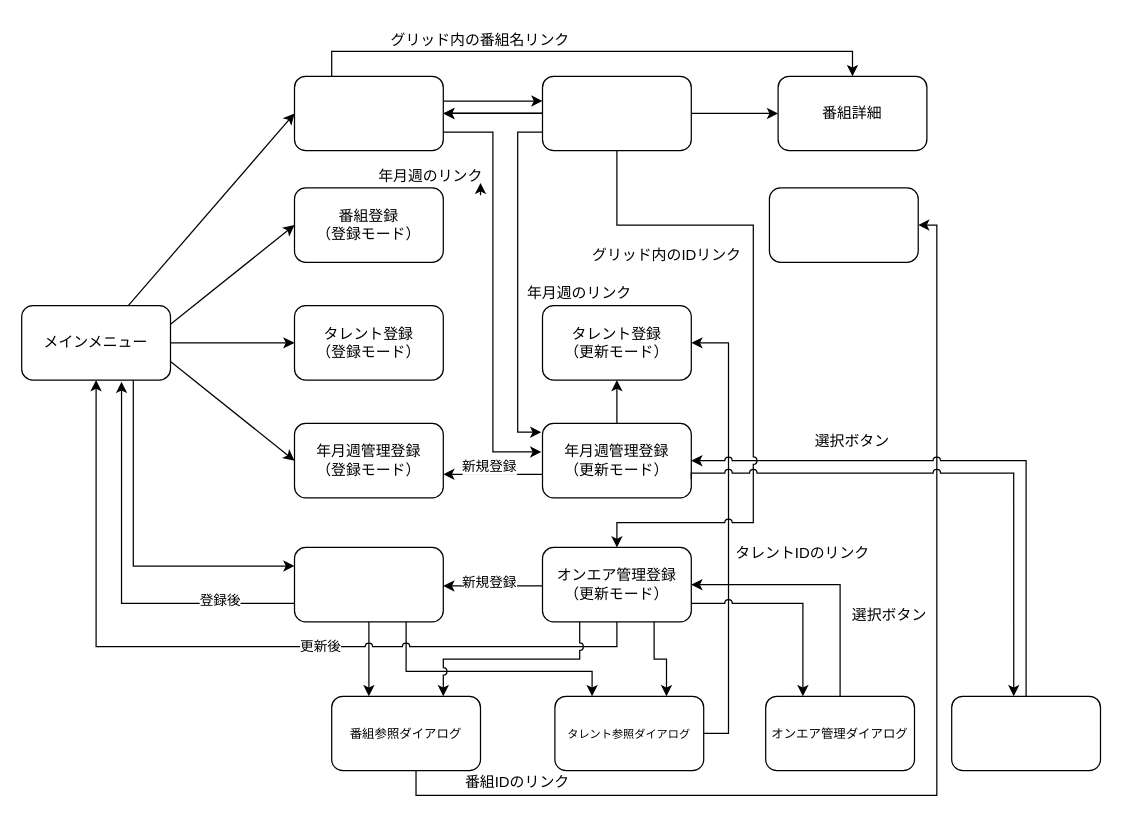
The diagram is 1122 pixels wide and 827 high, and some of its shapes have lost their labels. The shapes that lost their labels are listed below. From the top down, each one's centre as x and y in pixels, then its label:
the point at 368,113: 週間タレント 出演検索
the point at 616,113: タレント詳細
the point at 843,224: 番組登録 （更新モード）
the point at 368,584: オンエア管理登録 （登録モード）
the point at 1025,733: 年月週管理ダイアログ
